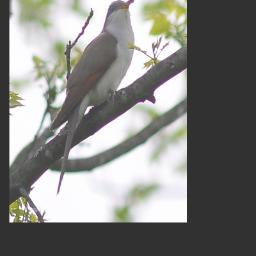Cuckoo: (48, 0, 136, 199)
